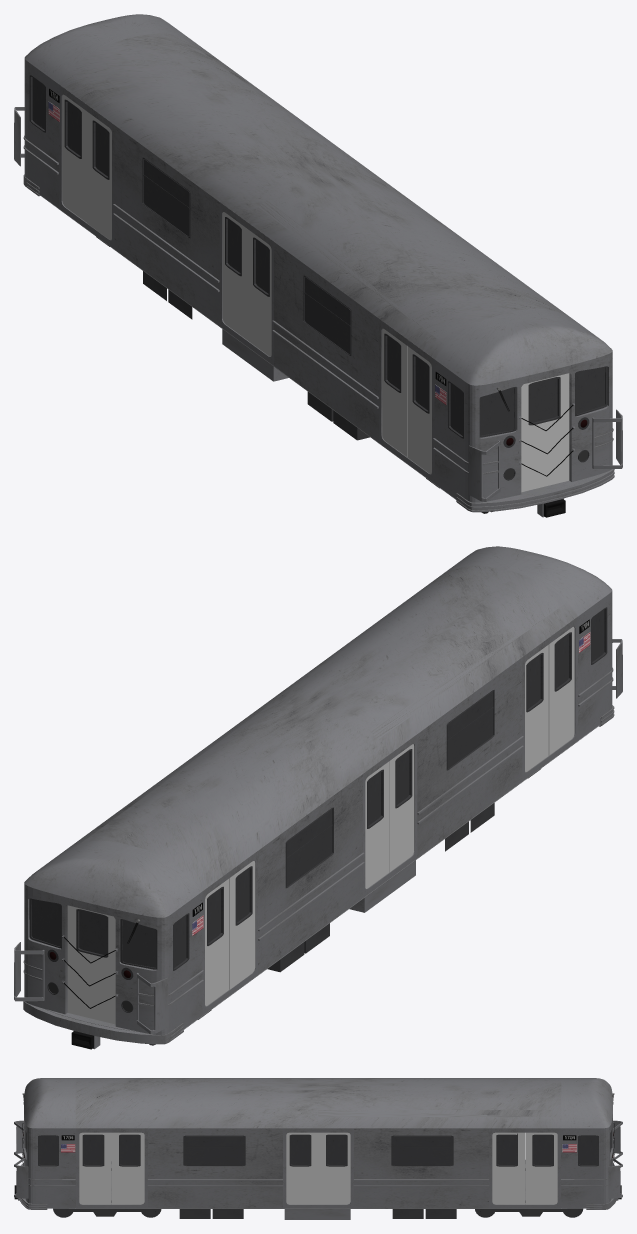
The model's file is singlr mesh(game exp).fbx.
3 renders of one model, top to bottom at view 1: azimuth 30°, elevation 25°; view 2: azimuth 150°, elevation 25°; view 3: azimuth 270°, elevation 25°, orthographic. The views are drawn at different scales.
Parts seen in each view (by area): view 1: train_single mesh; view 2: train_single mesh; view 3: train_single mesh.
Boxes of the visible parts, bbox=[...] form: train_single mesh: bbox=[14, 14, 622, 517]; train_single mesh: bbox=[14, 546, 622, 1049]; train_single mesh: bbox=[14, 1078, 622, 1219].
Size of the model in its own units: 613 by 729 by 3374.
Materials: 17 (10 with a texture image).
